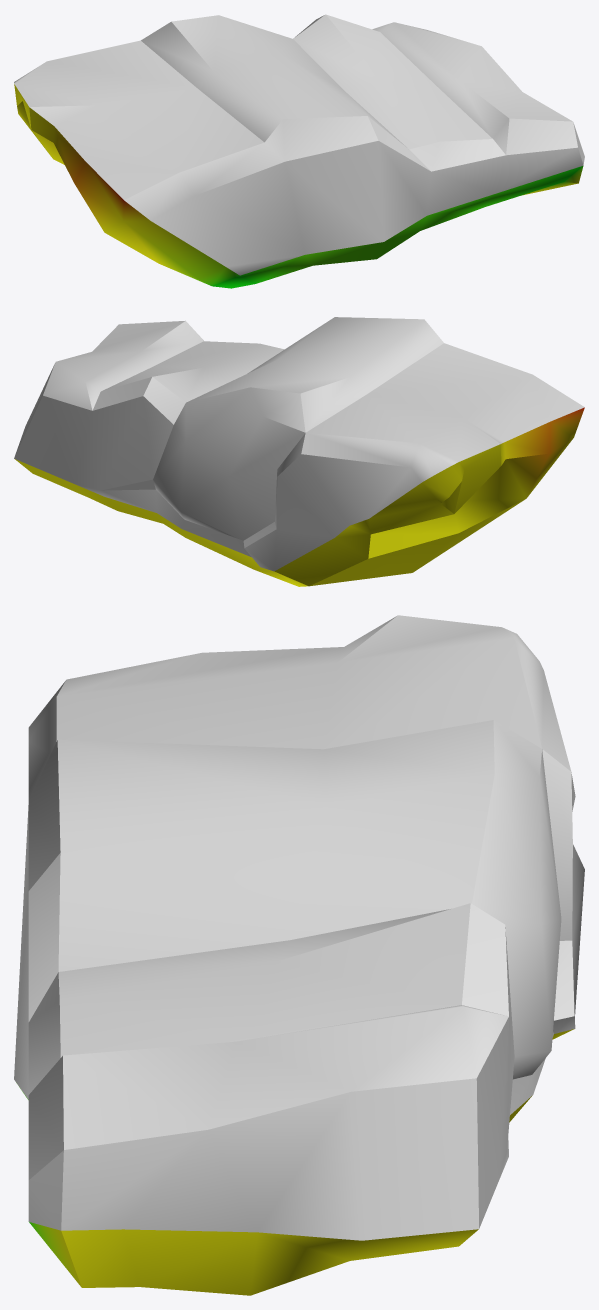
The model's file is SM_EFF_Stone_B_01.glb.
3 renders of one model, top to bottom at view 1: azimuth 30°, elevation 25°; view 2: azimuth 150°, elevation 25°; view 3: azimuth 270°, elevation 25°, orthographic. The views are drawn at different scales.
Visible parts, largest first — view 1: SM_EFF_Stone_B_01; view 2: SM_EFF_Stone_B_01; view 3: SM_EFF_Stone_B_01.
Boxes of the visible parts, <box> form: SM_EFF_Stone_B_01: <box>14,14,584,288</box>; SM_EFF_Stone_B_01: <box>14,317,584,586</box>; SM_EFF_Stone_B_01: <box>14,615,584,1295</box>.
Size of the model in its own units: 1.04 by 0.4109 by 0.581.
